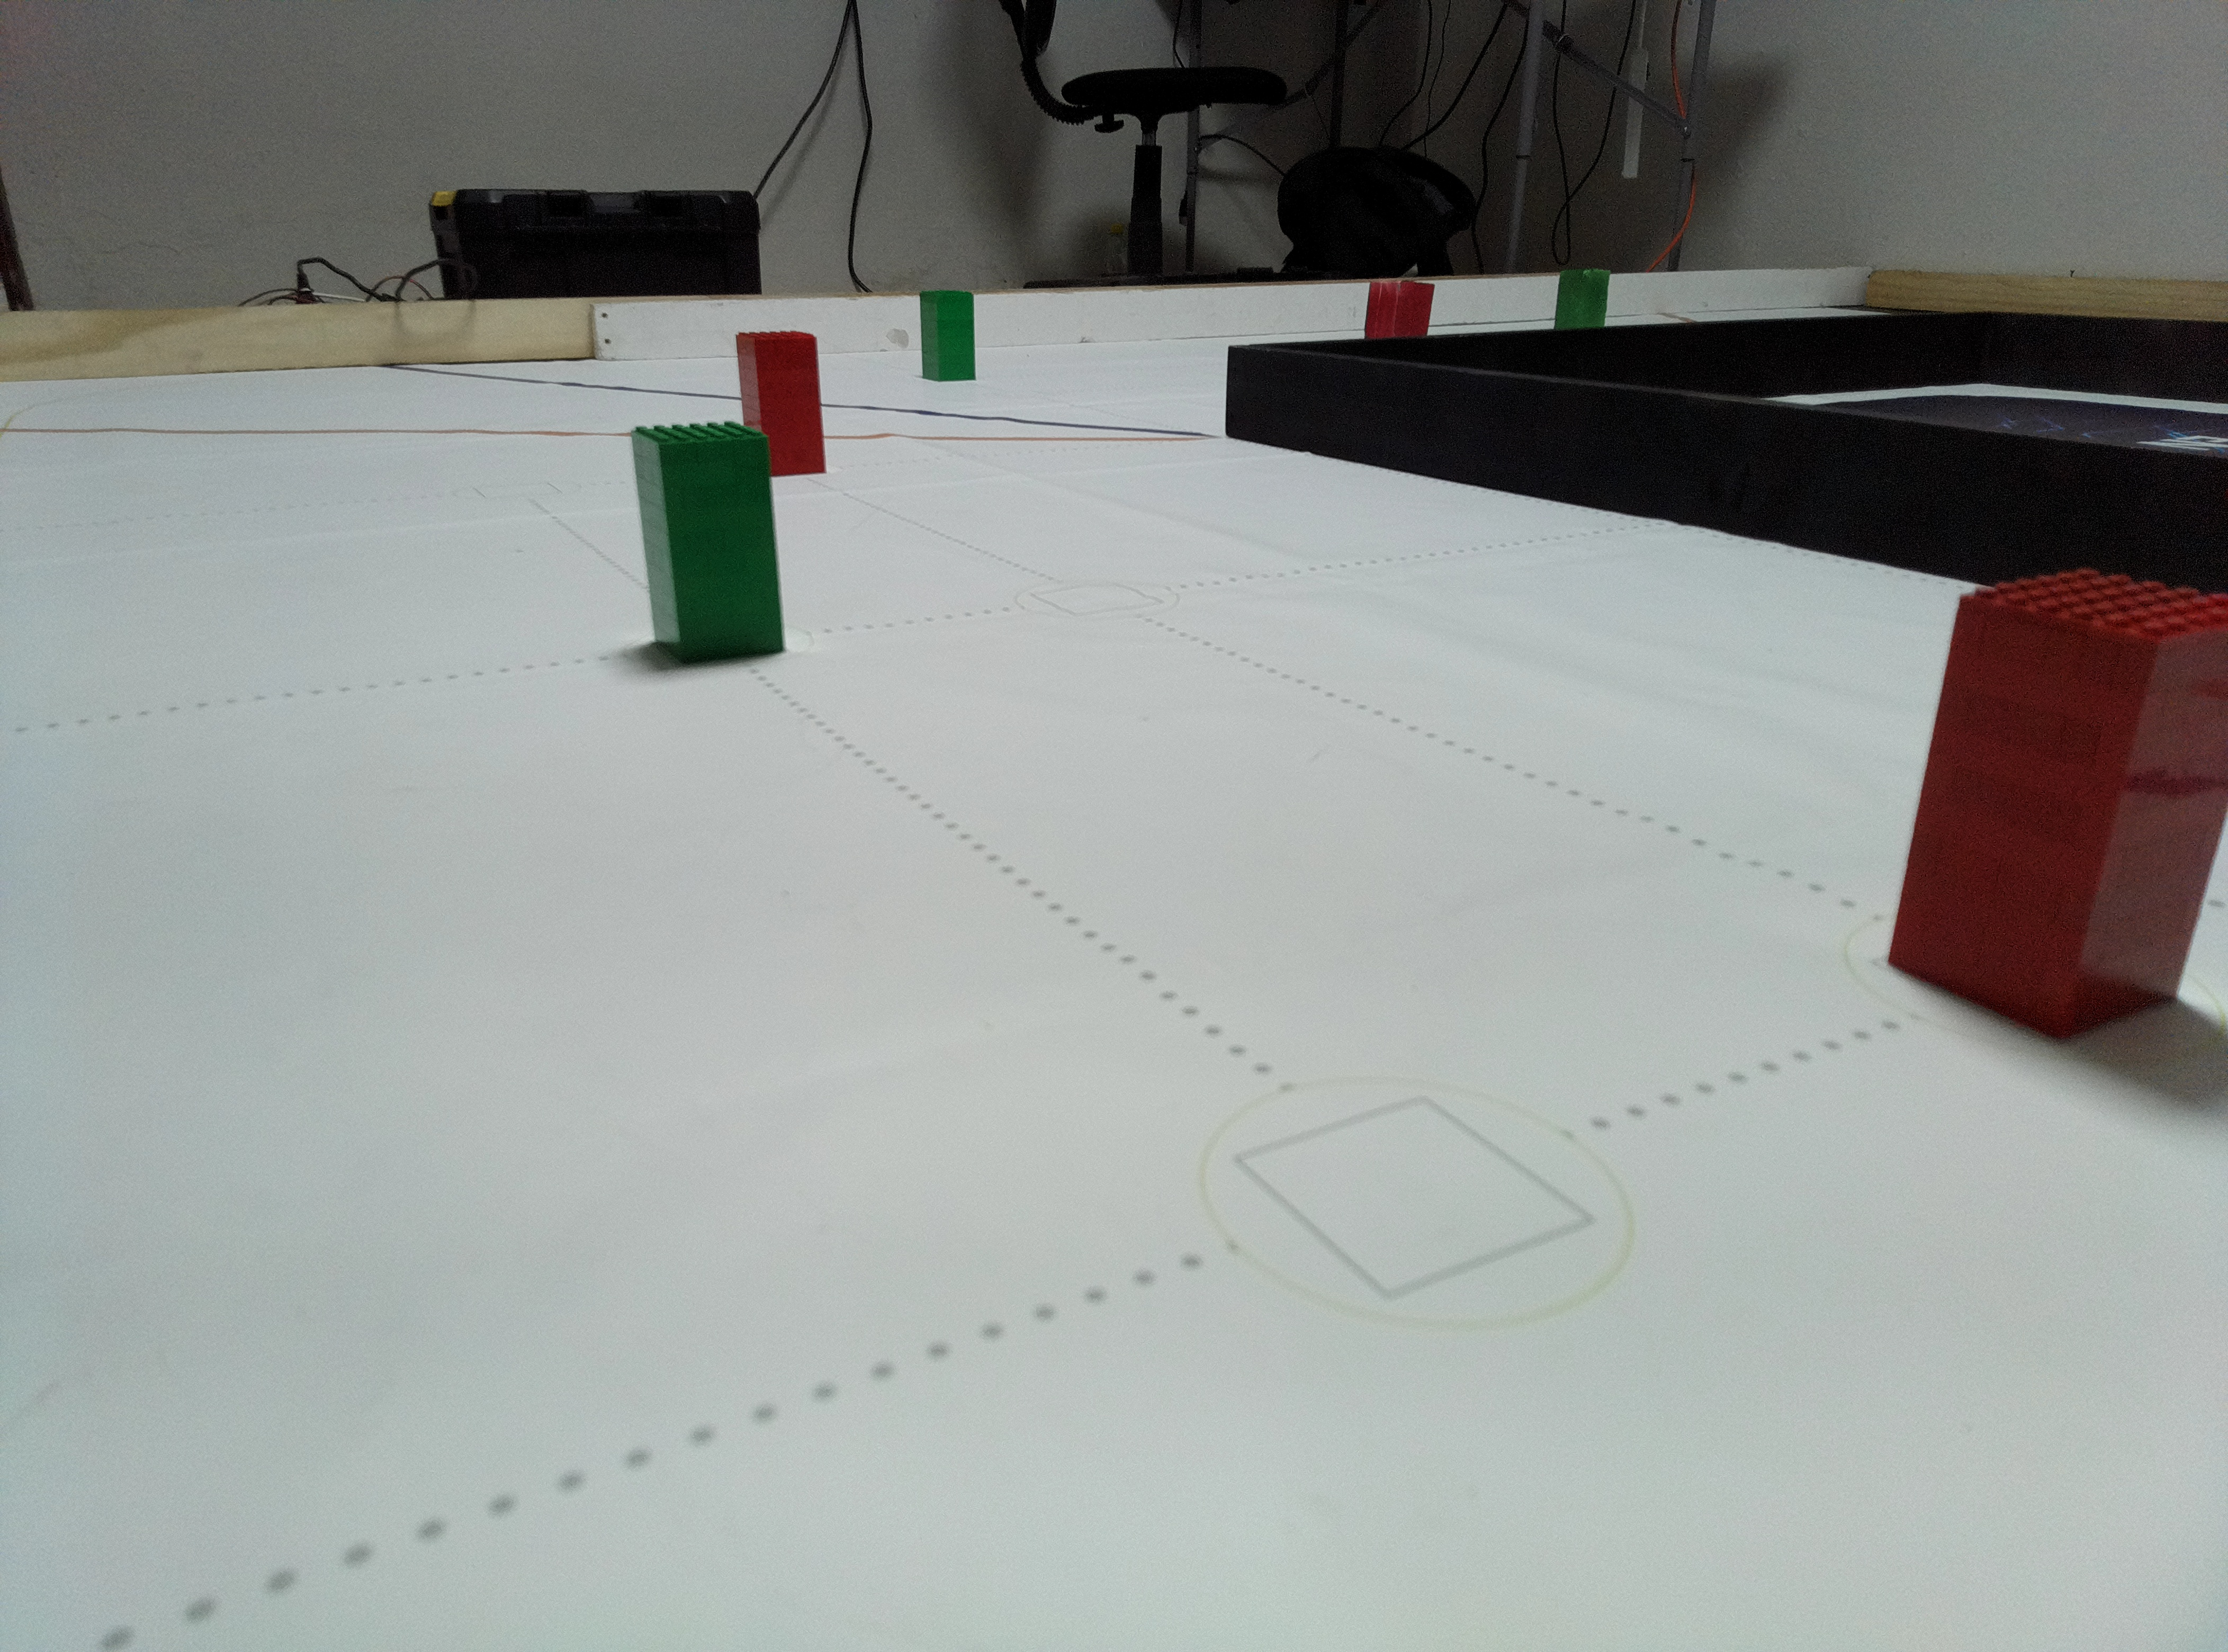greenbox: (626, 418, 786, 668), (920, 288, 977, 383), (1553, 265, 1610, 330)
redbox: (1881, 564, 2225, 1046), (734, 328, 828, 477), (1360, 278, 1437, 338)
